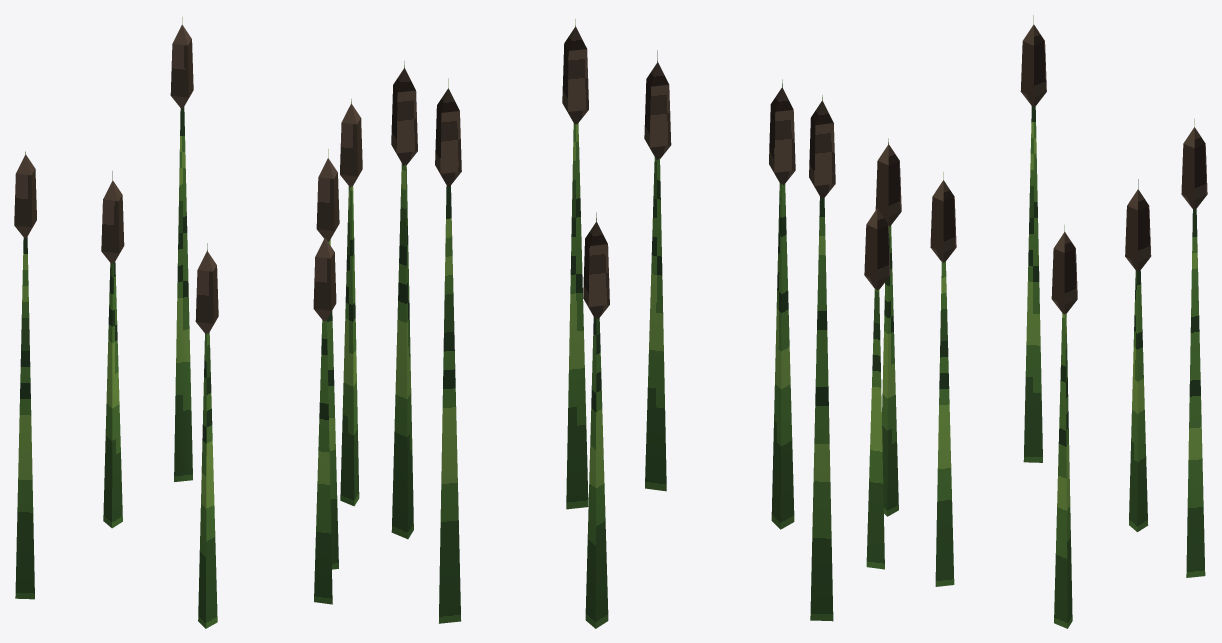
The model's file is mnat.flowers__reeds.glb.
The picture shows the model from 3 angles, left to right: view 1: azimuth 30°, elevation 25°; view 2: azimuth 150°, elevation 25°; view 3: azimuth 270°, elevation 25°; orthographic projection. The views are drawn at different scales.
Parts seen in each view (by area): view 1: kit_plants, kit_heads; view 2: kit_plants, kit_heads; view 3: kit_plants, kit_heads.
Part boxes in pixels (left/top/right/bottom): kit_plants: left=15, top=17, right=359, bottom=628; kit_heads: left=14, top=24, right=362, bottom=334; kit_plants: left=391, top=19, right=833, bottom=628; kit_heads: left=391, top=26, right=835, bottom=319; kit_plants: left=866, top=15, right=1205, bottom=628; kit_heads: left=864, top=24, right=1207, bottom=314.
Size of the model in its own units: 1.11 by 1.35 by 0.9196.
Materials: 2 (2 with a texture image).
